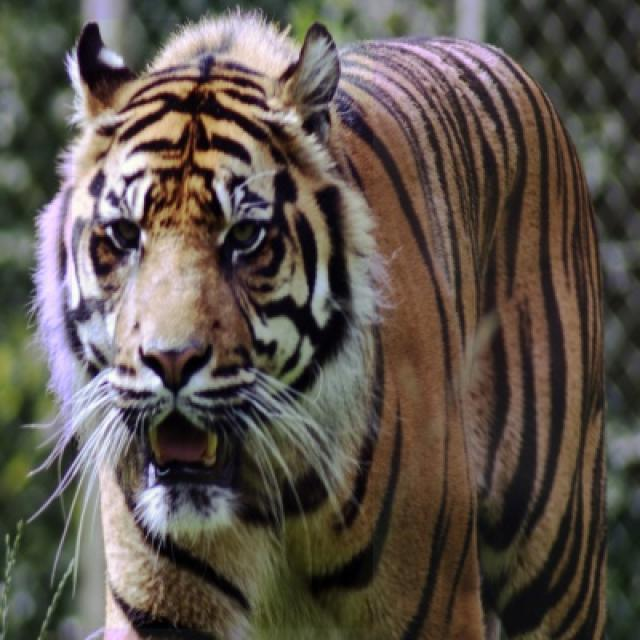Tiger: (35, 11, 605, 638)
